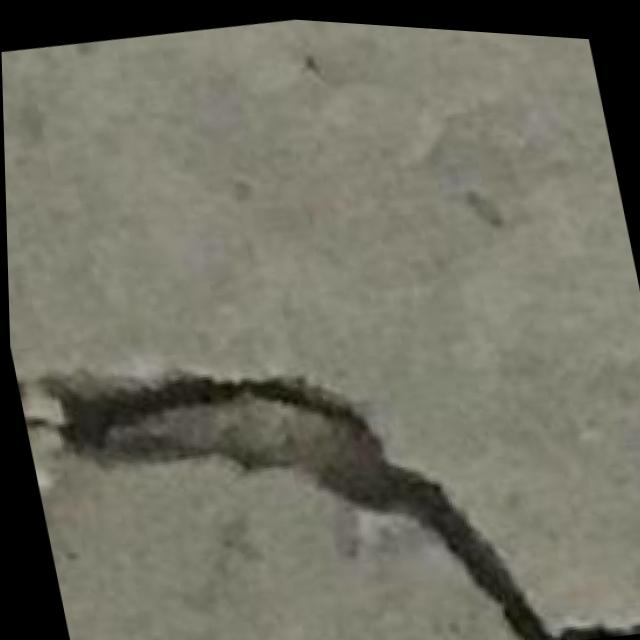Crack: (49, 272, 640, 640)
